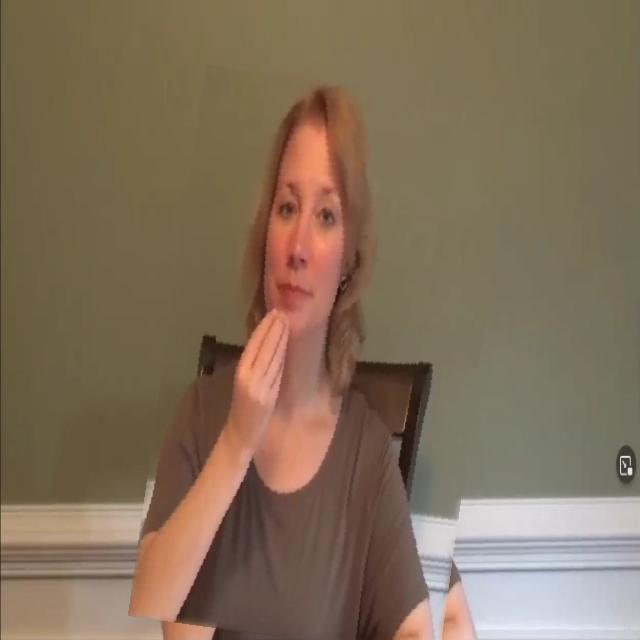Food: (146, 73, 497, 640)
